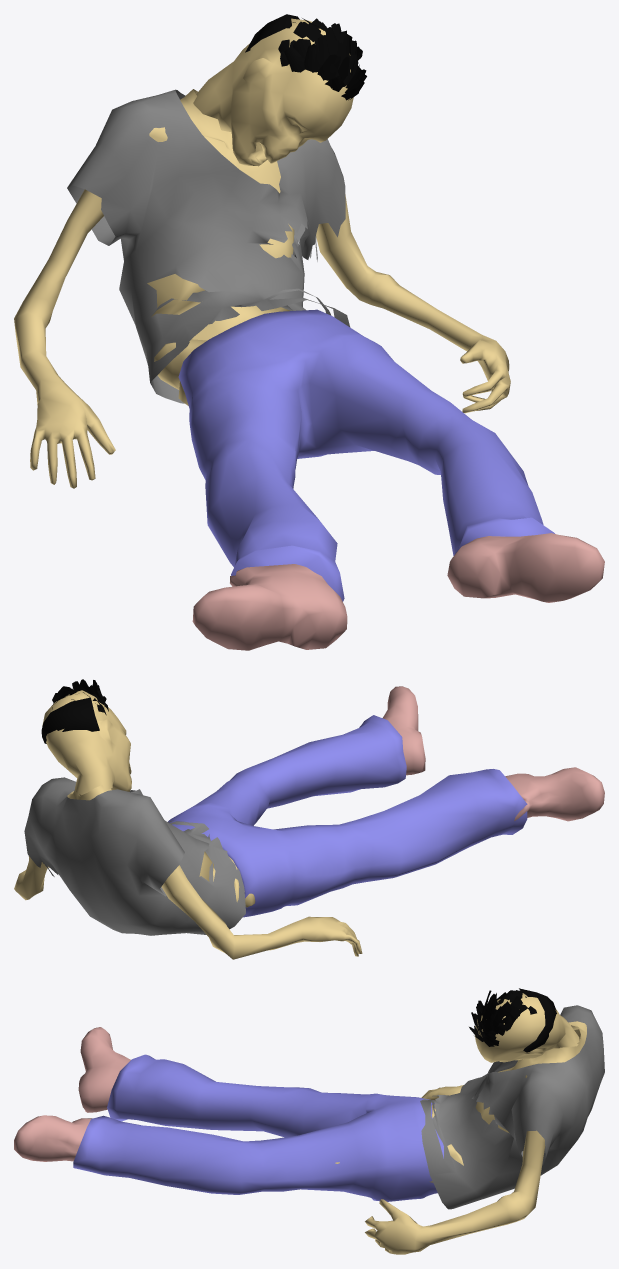
Rendered from Cadavre_01.fbx.
3 renders of one model, top to bottom at view 1: azimuth 30°, elevation 25°; view 2: azimuth 150°, elevation 25°; view 3: azimuth 270°, elevation 25°, orthographic. The views are drawn at different scales.
Parts seen in each view (by area): view 1: Cadavre_01; view 2: Cadavre_01; view 3: Cadavre_01.
Part boxes in pixels (x1=…): Cadavre_01: x1=14, y1=14, x2=604, y2=650; Cadavre_01: x1=14, y1=679, x2=604, y2=959; Cadavre_01: x1=14, y1=988, x2=604, y2=1254.
Bounding box in the file's own units: 103 × 62.63 × 143.
